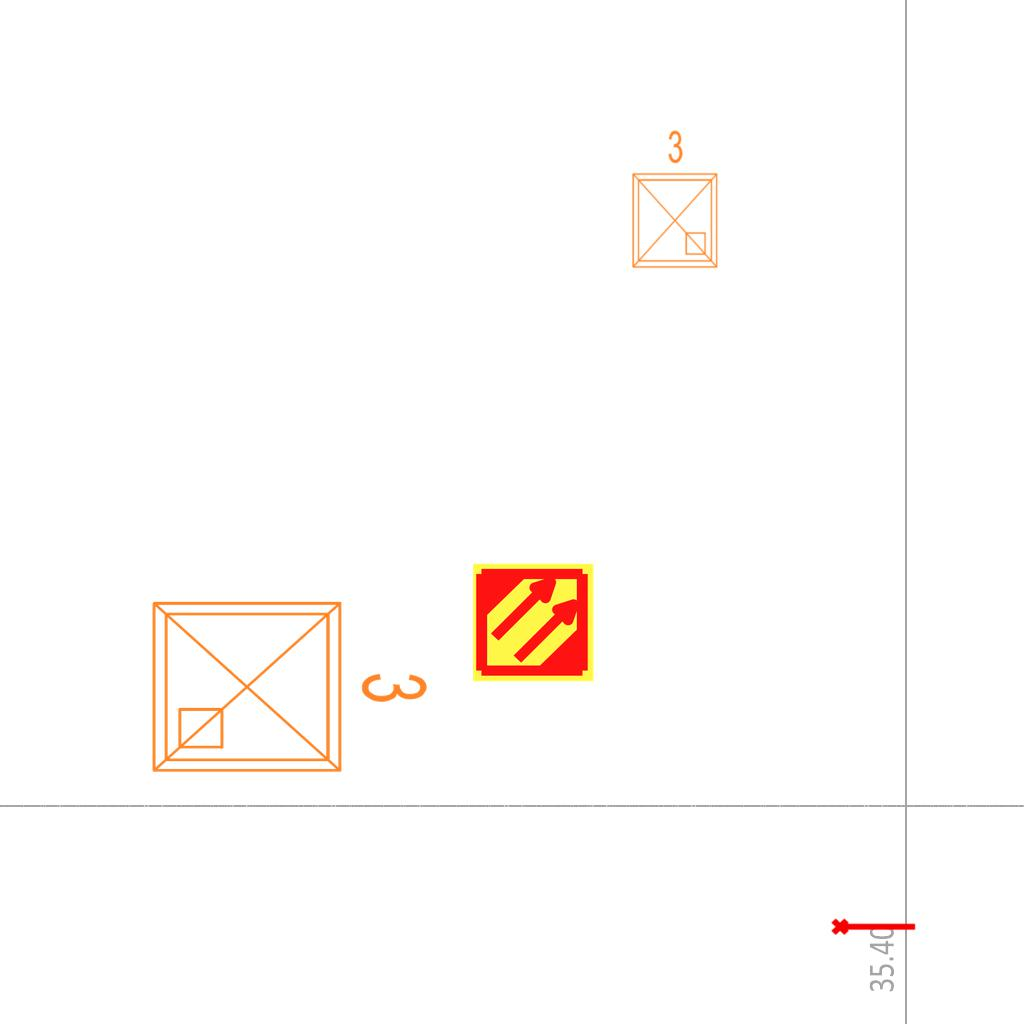ASR_Ansaugoeffnung: (830, 914, 918, 937)
ASR_Ansaugrauchmelder: (471, 560, 596, 685)
Einbaudownlights_LED_Konferenzraeume: (138, 579, 438, 787), (621, 125, 725, 275)
